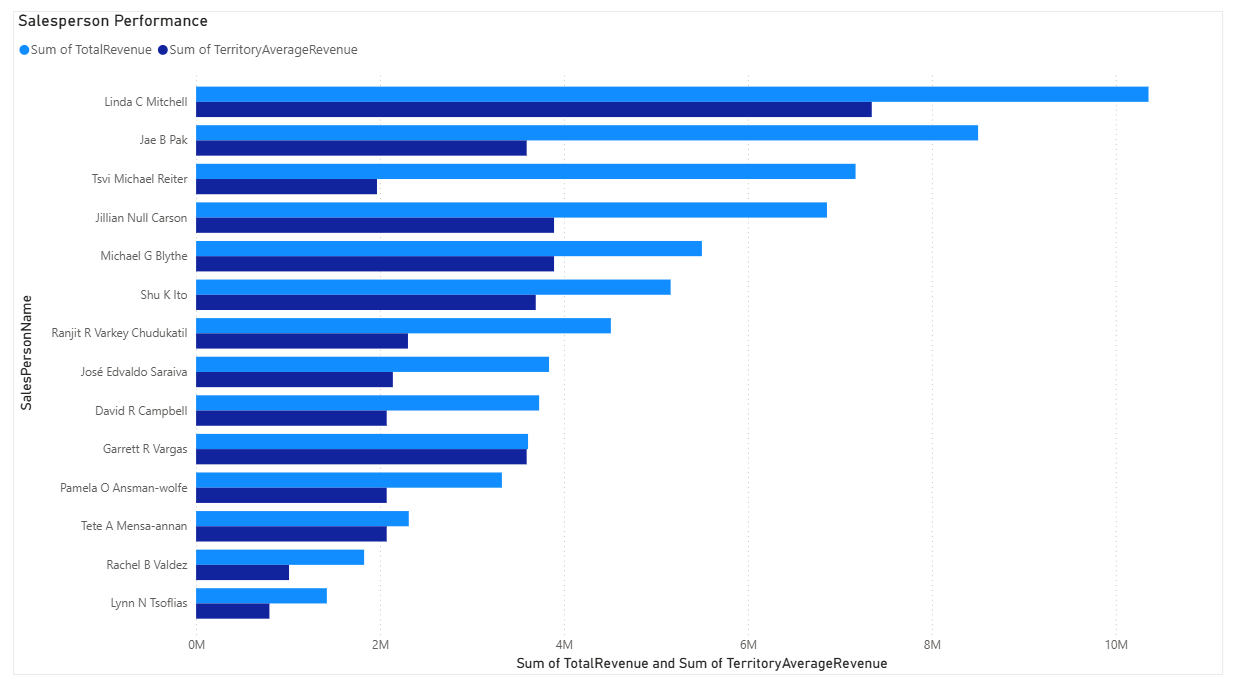

What the dashboard file says about the page in this screenshot:
{"tool":"powerbi","page":{"name":"Salesperson Performance","canvas":[1280,720],"ordinal":4},"visuals":[{"type":"clusteredBarChart","title":"Salesperson Performance","fields":{"Category":["vw_salespeople_above_territory_average.SalesPersonName"],"Y":["Sum(vw_salespeople_above_territory_average.TotalRevenue)","Sum(vw_salespeople_above_territory_average.TerritoryAverageRevenue)"]},"box":[22.9,21.4,1235.5,678.4],"z":0}]}

Visuals, with their boxes in screenshot pixels (x1, y1, x2, y2), scaled from the page's 1280x720 canvas onto the 1234x678 screenshot:
"Salesperson Performance" clusteredBarChart: {"x1": 22, "y1": 20, "x2": 1213, "y2": 659}
